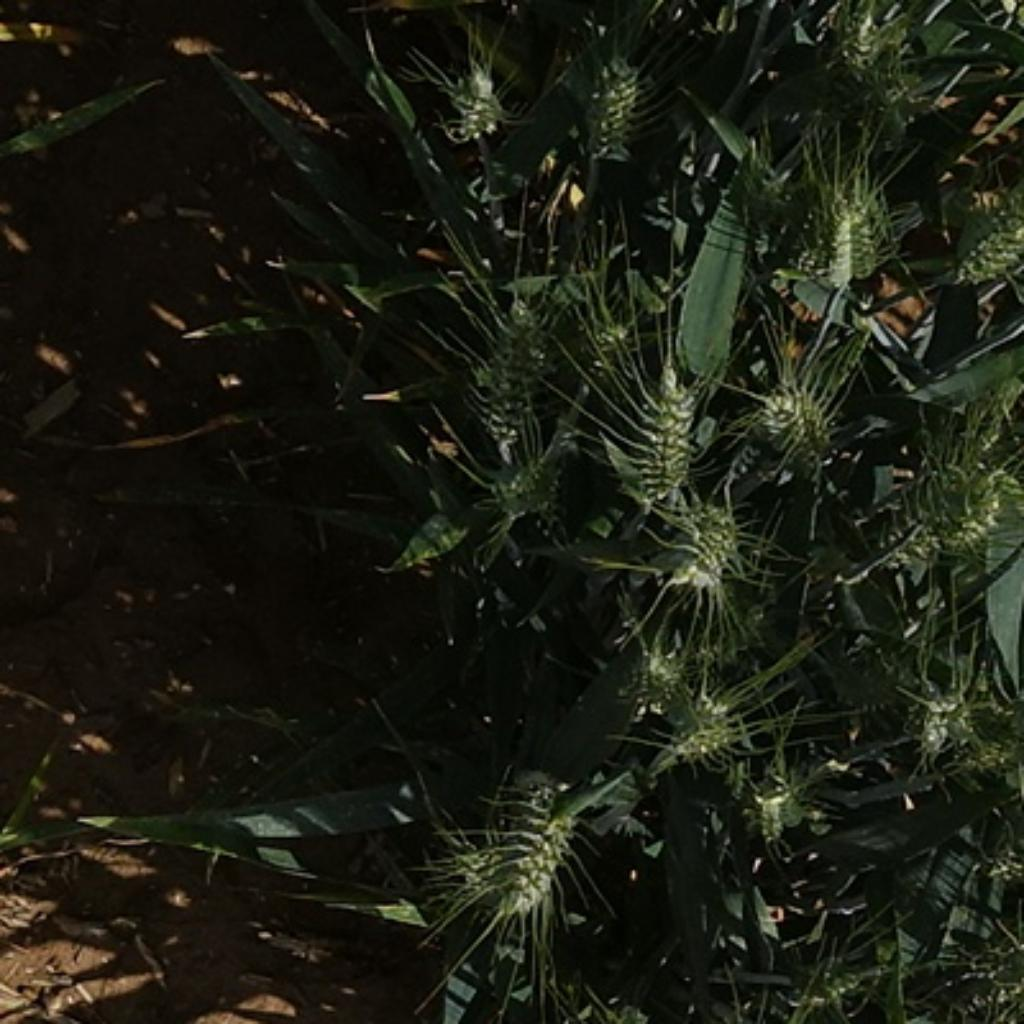0-0: (857, 437, 1024, 568), (472, 292, 564, 447), (737, 737, 849, 847), (502, 794, 594, 920), (732, 381, 842, 483), (896, 670, 1003, 773), (619, 378, 709, 499), (565, 40, 652, 156), (660, 481, 742, 599), (816, 171, 893, 289), (952, 168, 1024, 286), (491, 432, 578, 519), (655, 675, 742, 762), (432, 48, 514, 140), (458, 814, 521, 917), (737, 145, 796, 253), (624, 637, 701, 719), (831, 5, 895, 75), (879, 64, 932, 131), (586, 311, 643, 353)
